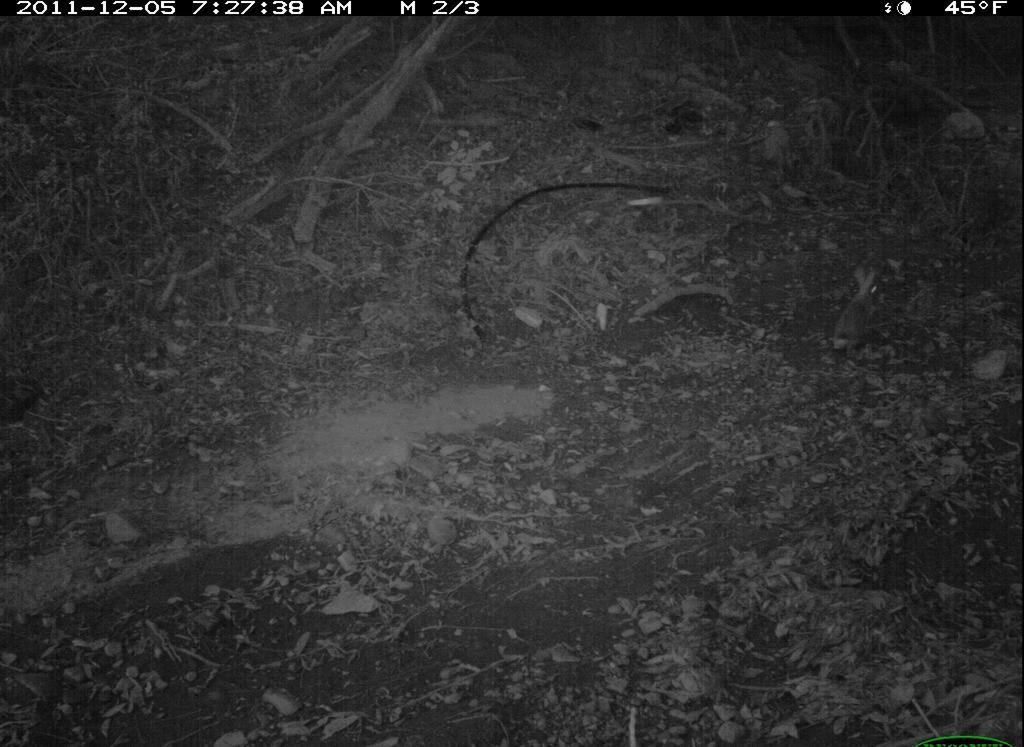rabbit: (827, 260, 890, 363)
